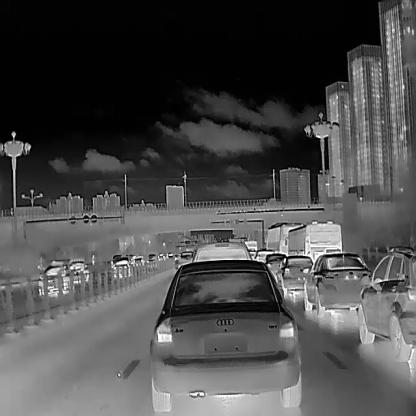bus: (263, 220, 304, 254)
car: (148, 258, 301, 412), (358, 244, 416, 361), (303, 252, 371, 315), (284, 219, 342, 257), (275, 254, 314, 296), (36, 261, 73, 295), (110, 258, 134, 278), (69, 259, 88, 282), (130, 254, 143, 268)
